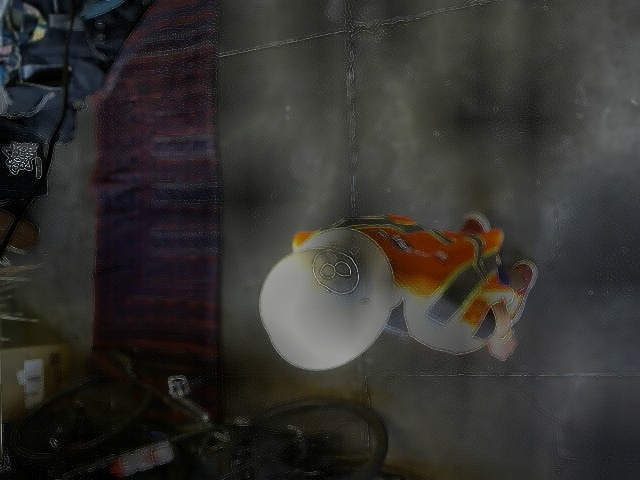eight: (313, 248, 359, 294)
